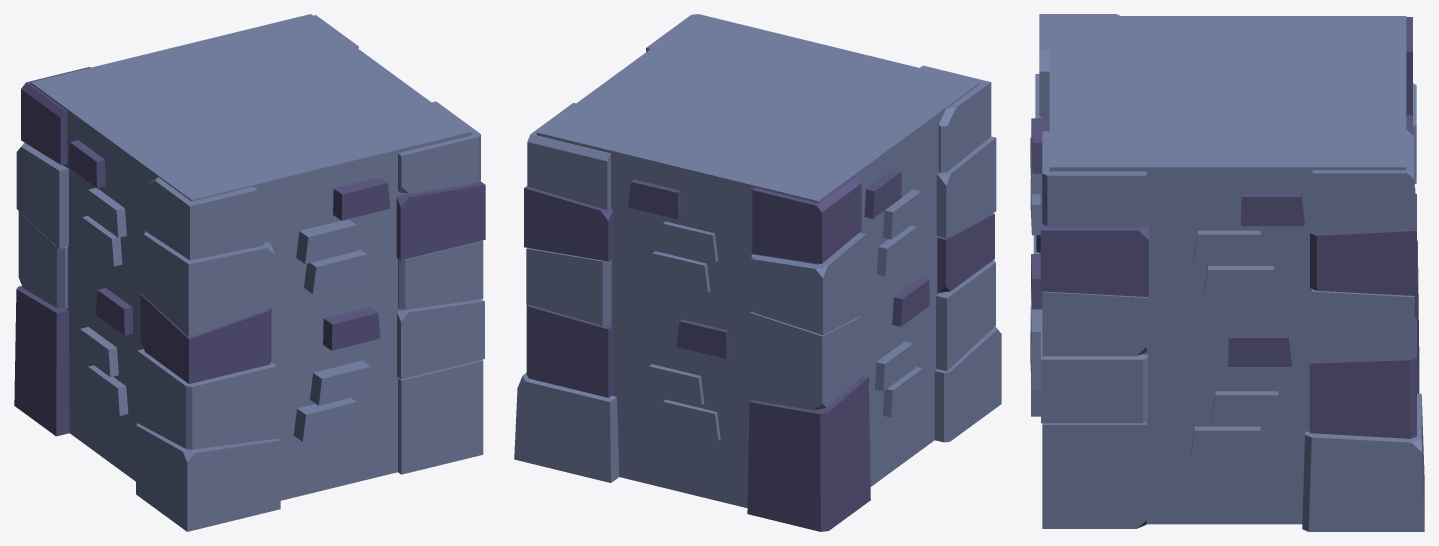
The model's file is Tower_01.fbx.
3 views of the same model, side by side, from view 1: azimuth 30°, elevation 25°; view 2: azimuth 150°, elevation 25°; view 3: azimuth 270°, elevation 25° (orthographic). The views are drawn at different scales.
Visible parts, largest first — view 1: Tower_01; view 2: Tower_01; view 3: Tower_01.
Part boxes in pixels (left/top/right/bottom): Tower_01: left=14, top=14, right=485, bottom=531; Tower_01: left=514, top=14, right=1001, bottom=531; Tower_01: left=1030, top=14, right=1424, bottom=531.
Size of the model in its own units: 301 by 302 by 302.
